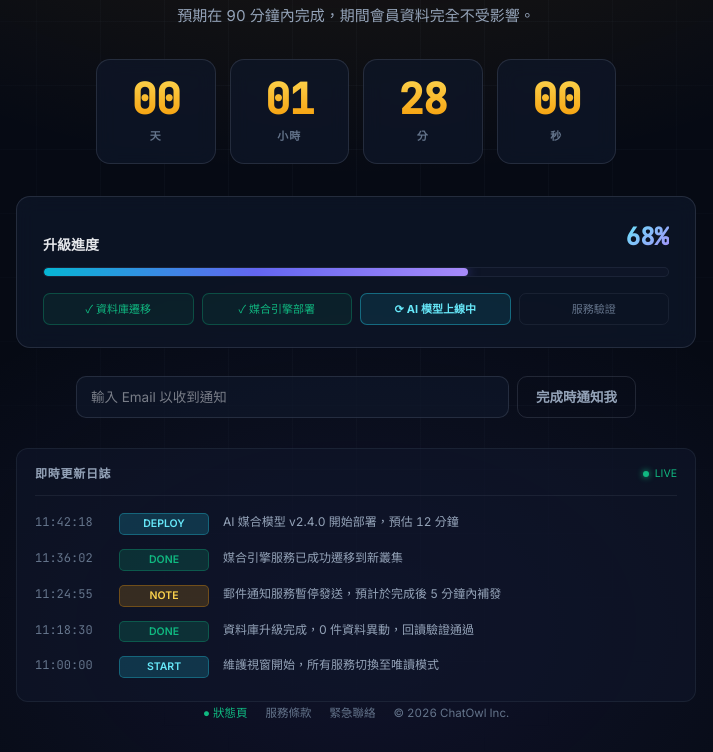
Test: MaintenancePage › notify form: submit shows confirmation
(page scrolled)
In the field named "Email 地址": {"x": 292, "y": 397} [76,376,509,418], type "test@example.com"
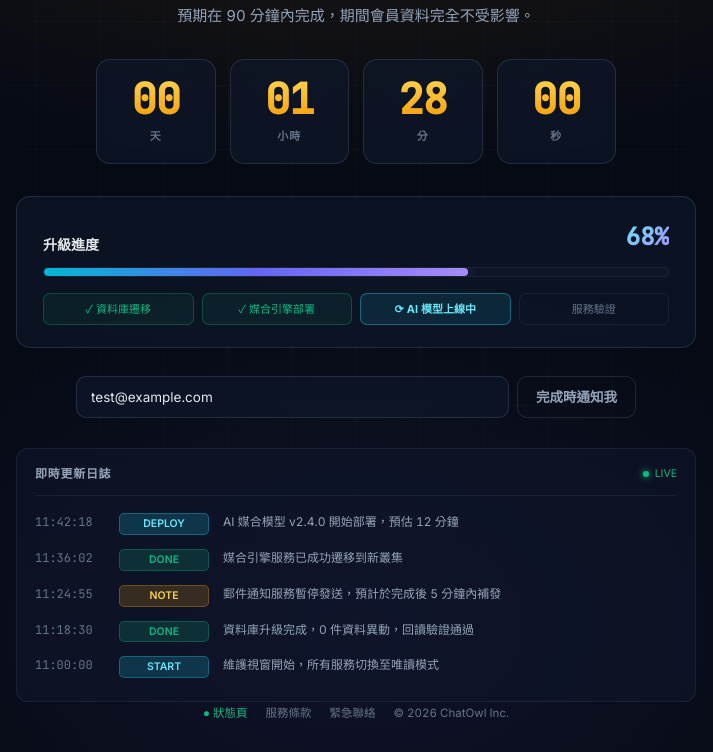
Click the button "完成時通知我": {"x": 576, "y": 397} [517,376,636,418]
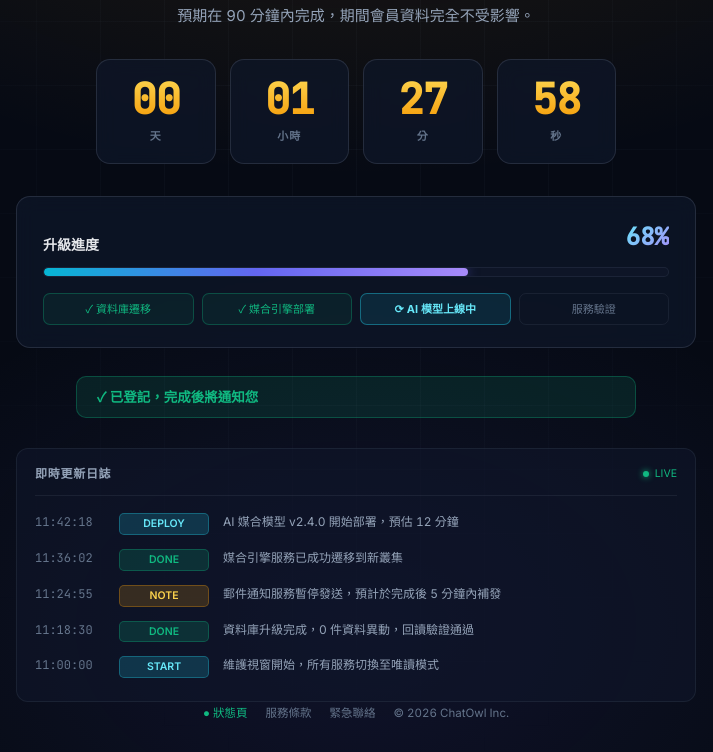
expect the text "✓ 已登記，完成後將通知您" is shown: met, box [76,376,636,418]
